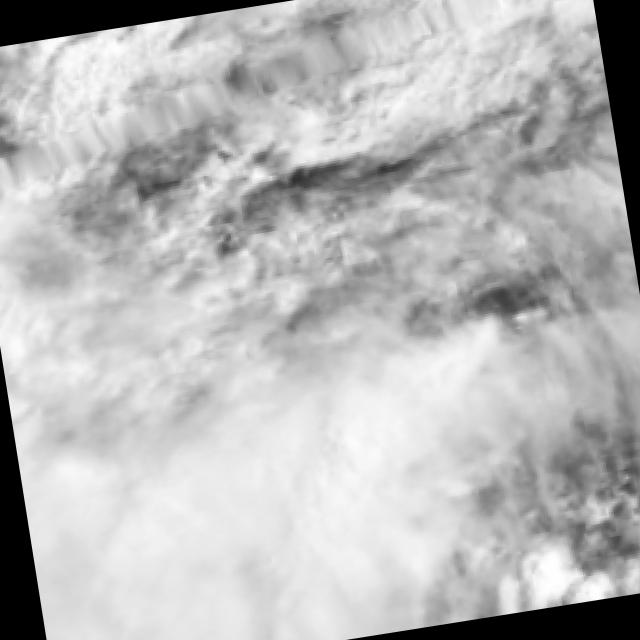CB: (22, 432, 389, 640)
